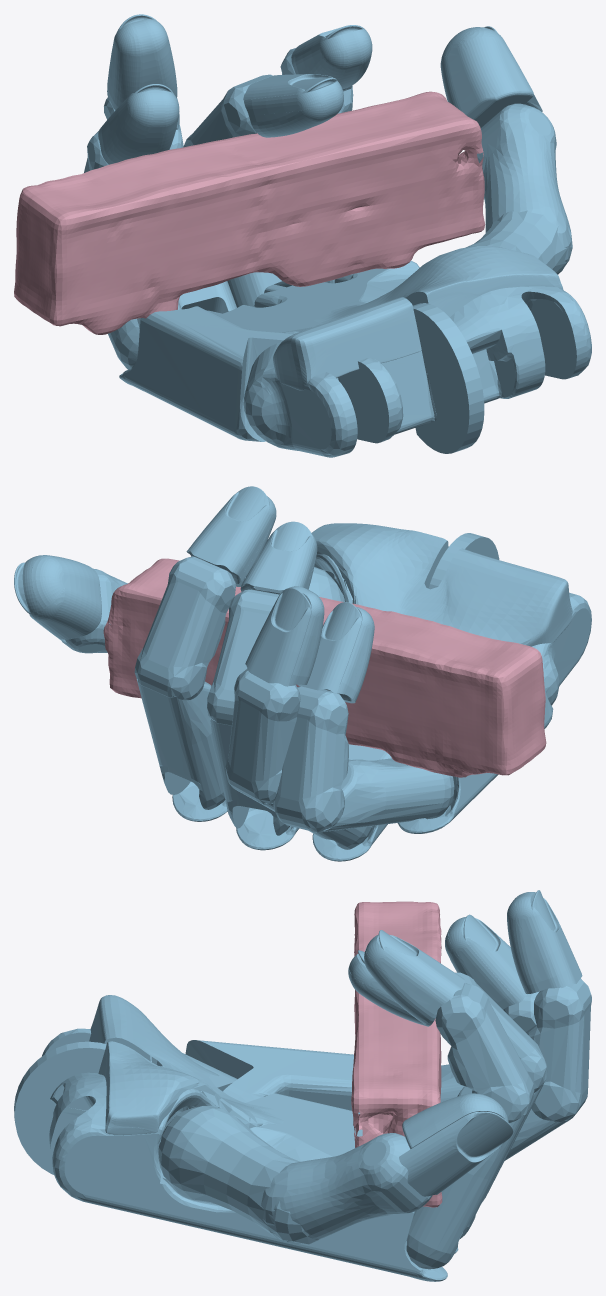
3 renders of one model, top to bottom at view 1: azimuth 30°, elevation 25°; view 2: azimuth 150°, elevation 25°; view 3: azimuth 270°, elevation 25°, orthographic. The views are drawn at different scales.
Visible parts, largest first — view 1: hand, world; view 2: hand, world; view 3: hand, world.
Boxes of the visible parts, left/top/right/bottom form: hand: left=84, top=14, right=591, bottom=457; world: left=14, top=91, right=485, bottom=334; hand: left=14, top=486, right=591, bottom=861; world: left=103, top=558, right=546, bottom=777; hand: left=14, top=890, right=591, bottom=1281; world: left=351, top=901, right=442, bottom=1207.
Size of the model in its own units: 0.1532 by 0.1007 by 0.1563.
